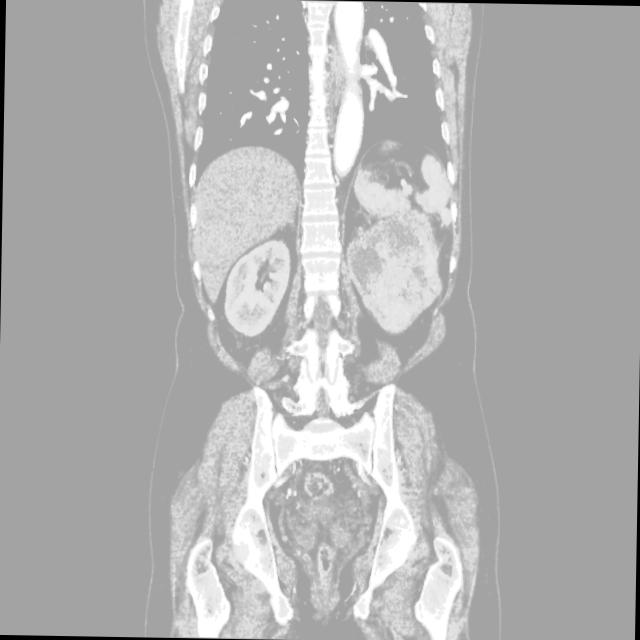TUMOR: (137, 189, 480, 348)
